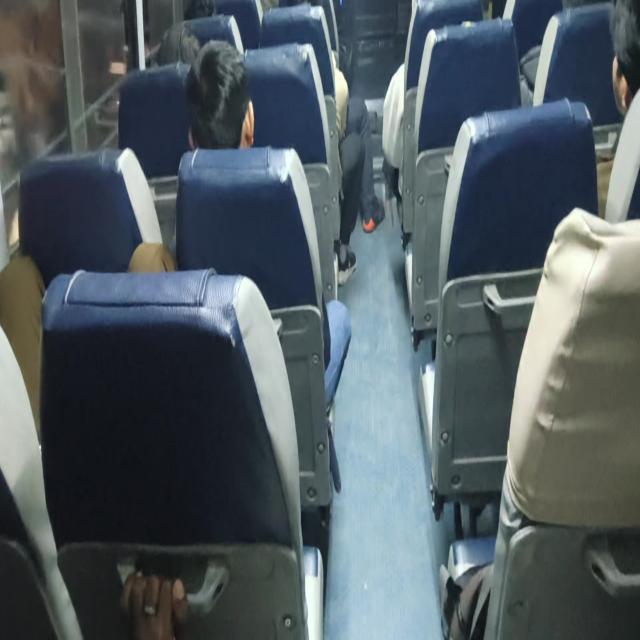person: (196, 48, 256, 138), (591, 8, 640, 101), (146, 17, 210, 65)
